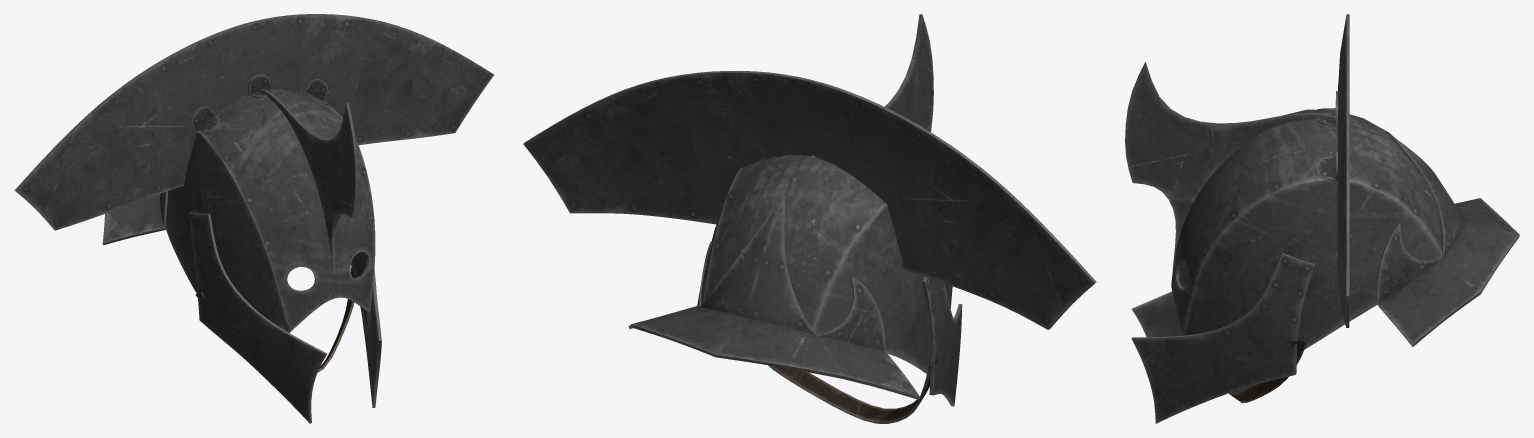
File: sk_uruk_hai_helmet_command_b3.fbx
3 views of the same model, side by side, from view 1: azimuth 30°, elevation 25°; view 2: azimuth 150°, elevation 25°; view 3: azimuth 270°, elevation 25° (orthographic). The views are drawn at different scales.
Visible parts, largest first — view 1: sk_uruk_hai_helmet_command_b3.0, sk_uruk_hai_helmet_command_b3.1; view 2: sk_uruk_hai_helmet_command_b3.0, sk_uruk_hai_helmet_command_b3.1; view 3: sk_uruk_hai_helmet_command_b3.0, sk_uruk_hai_helmet_command_b3.1.
Boxes of the visible parts, x1,y1,x2,y2 form: sk_uruk_hai_helmet_command_b3.0: (14, 14, 494, 423); sk_uruk_hai_helmet_command_b3.1: (195, 266, 354, 372); sk_uruk_hai_helmet_command_b3.0: (523, 14, 1096, 406); sk_uruk_hai_helmet_command_b3.1: (768, 356, 938, 423); sk_uruk_hai_helmet_command_b3.0: (1125, 14, 1519, 423); sk_uruk_hai_helmet_command_b3.1: (1229, 340, 1306, 403).
Bounding box in the file's own units: 0.5669 × 0.3724 × 0.3733.
2 materials, 2 textured.
